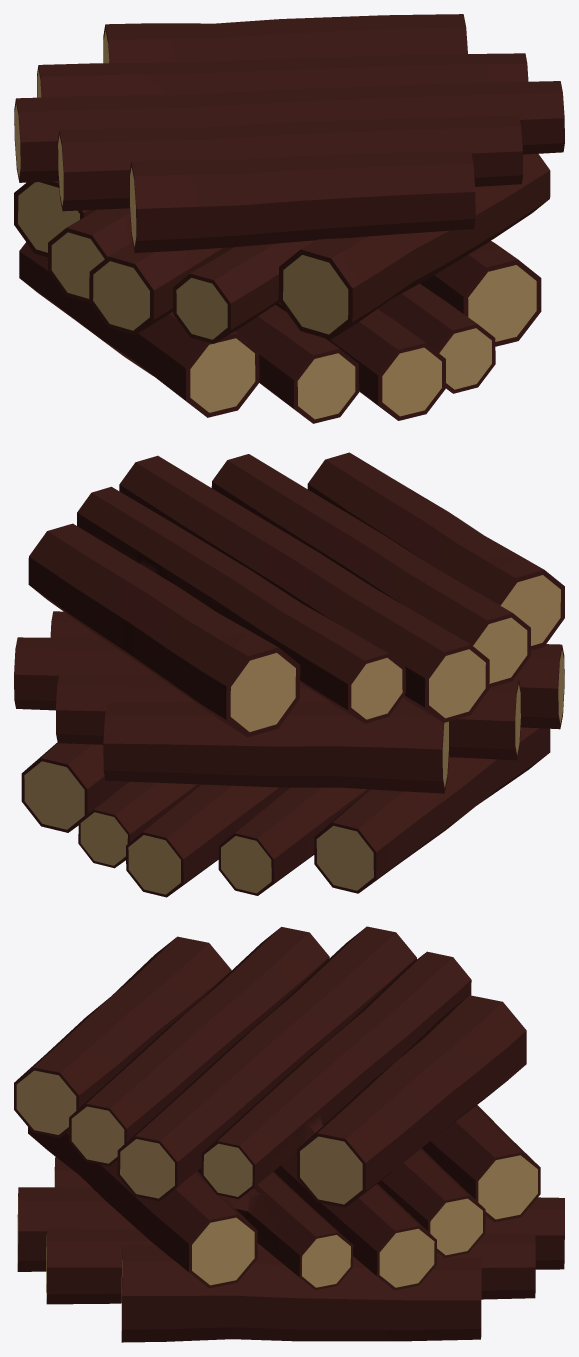
Rendered from SM_FurnaceFuel_Wooden_Lv3.fbx.
3 views of the same model, one above another, from view 1: azimuth 30°, elevation 25°; view 2: azimuth 150°, elevation 25°; view 3: azimuth 270°, elevation 25° (orthographic).
Parts seen in each view (by area): view 1: Furnace_WoodenFuel_Lv3; view 2: Furnace_WoodenFuel_Lv3; view 3: Furnace_WoodenFuel_Lv3.
Part boxes in pixels (x1=…): Furnace_WoodenFuel_Lv3: x1=14, y1=14, x2=564, y2=423; Furnace_WoodenFuel_Lv3: x1=14, y1=452, x2=564, y2=897; Furnace_WoodenFuel_Lv3: x1=14, y1=926, x2=564, y2=1342.
Size of the model in its own units: 111 by 53.88 by 116.
